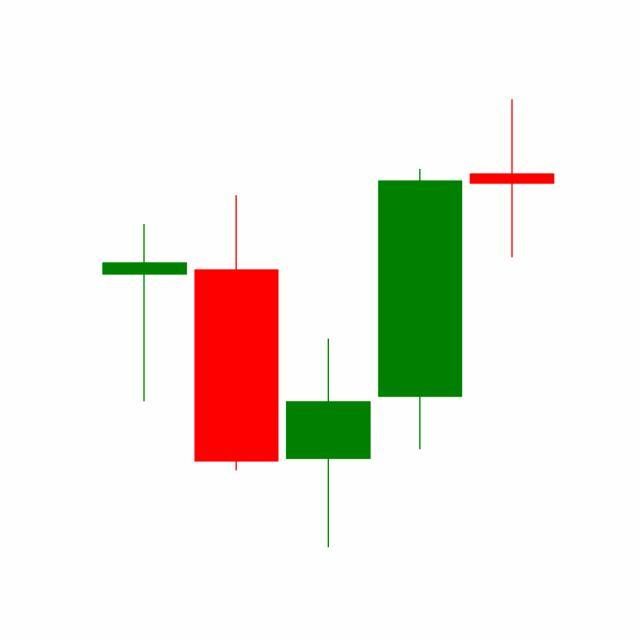Three Inside Up-Down: (190, 165, 467, 549)
